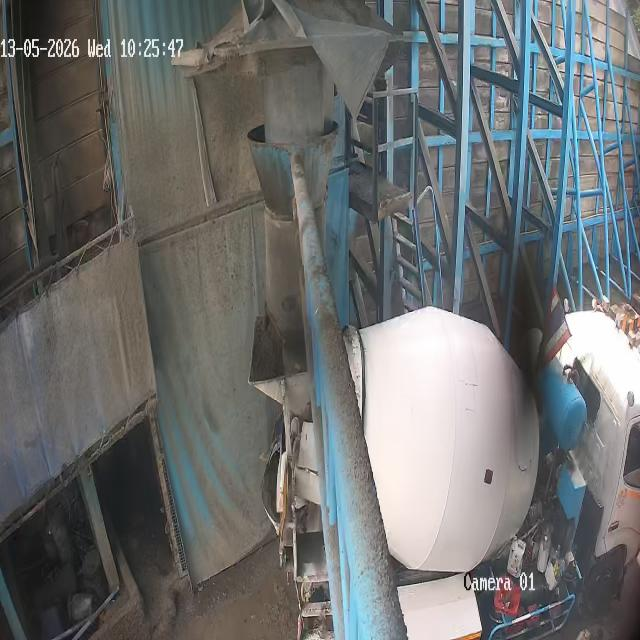cement_mixer_truck: (249, 302, 640, 639)
swing_chute: (248, 124, 345, 367)
